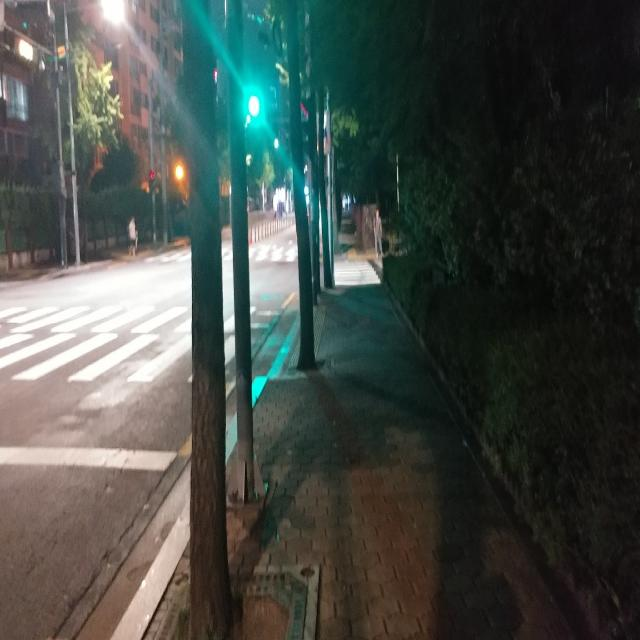횡단보도: (0, 299, 242, 385), (334, 259, 381, 286)
